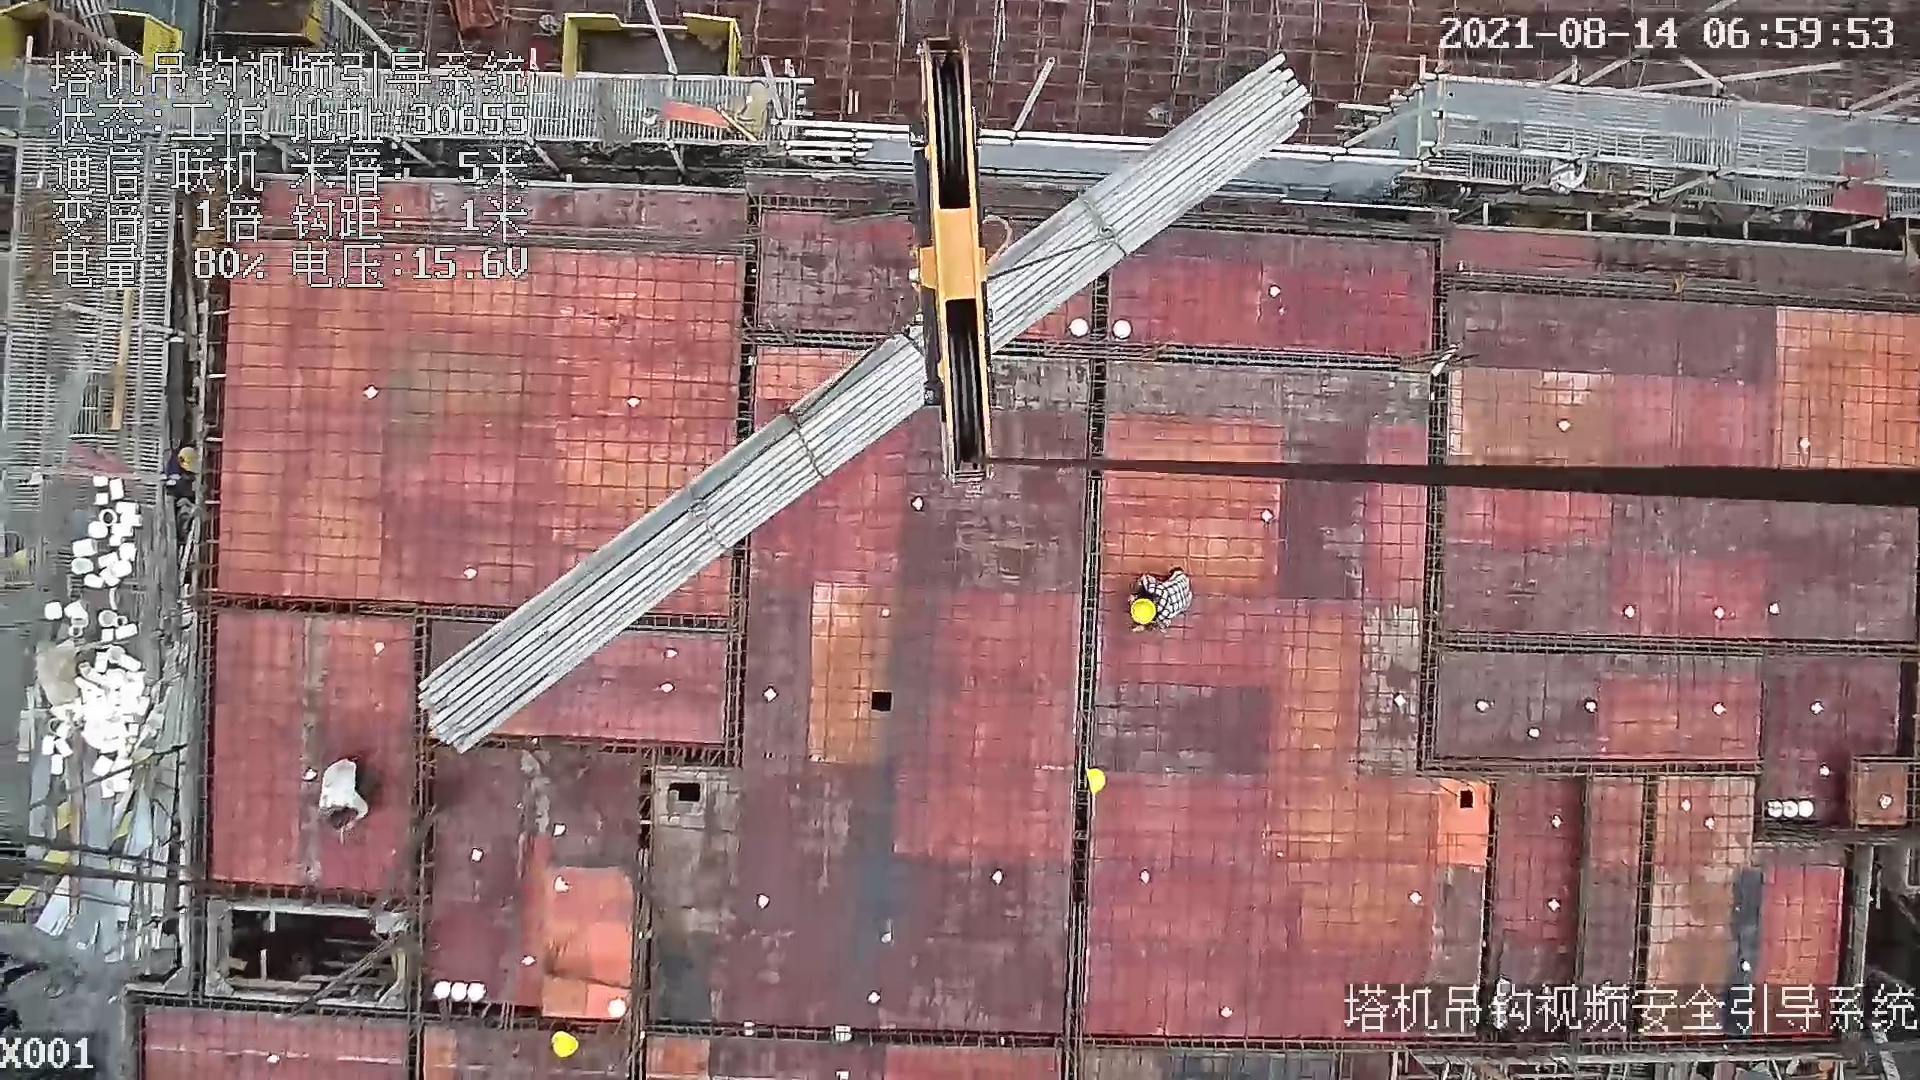helmet: (551, 1030, 578, 1057), (1132, 599, 1155, 625), (1085, 767, 1106, 793)
hook: (903, 32, 1018, 500)
person: (1127, 569, 1201, 642), (317, 762, 372, 835)
rebar: (413, 54, 1308, 753)
scaffold: (38, 1, 124, 56)
